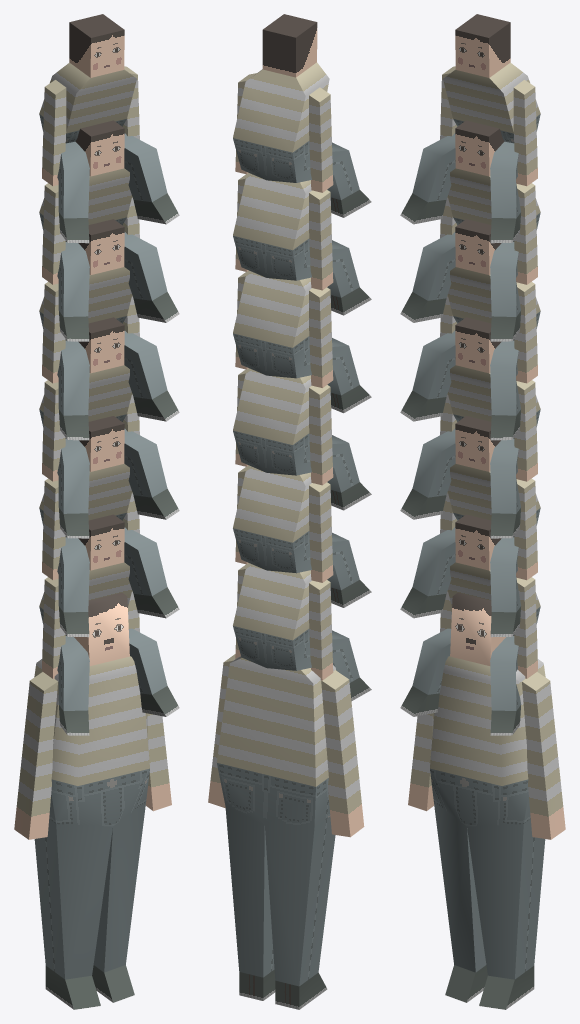
Rendered from 0237_Human_Tower.glb.
The picture shows the model from 3 angles, left to right: view 1: azimuth 30°, elevation 25°; view 2: azimuth 150°, elevation 25°; view 3: azimuth 330°, elevation 25°; orthographic projection.
Visible parts, largest first — view 1: part_0; view 2: part_0; view 3: part_0.
Part boxes in pixels (x1=…): part_0: x1=14, y1=14, x2=179, y2=1009; part_0: x1=208, y1=14, x2=371, y2=1009; part_0: x1=400, y1=14, x2=565, y2=1009.
Size of the model in its own units: 0.6397 by 4.13 by 0.45.
1 material, 1 textured.
